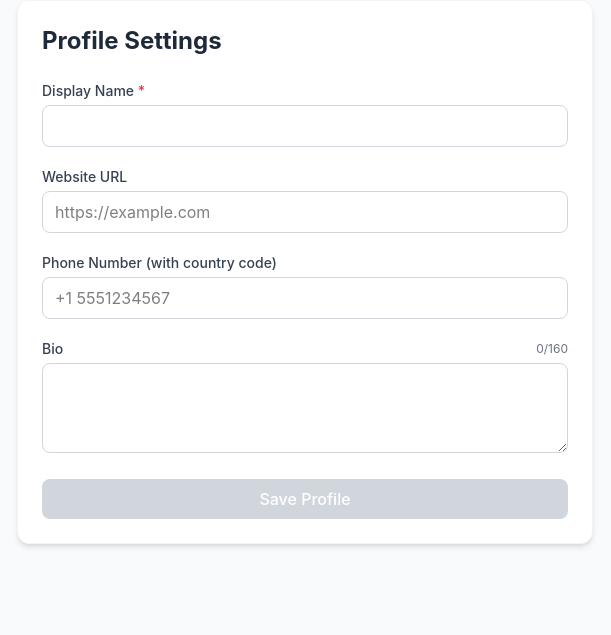
Scenario: Task 1: Profile Settings Form › enables submit button and shows toast on valid form submission
The image size is (611, 635).
Type "Helena" into the field labelled "Display Name *".
click(305, 126); type("Helena")  # box [42,105,568,147]
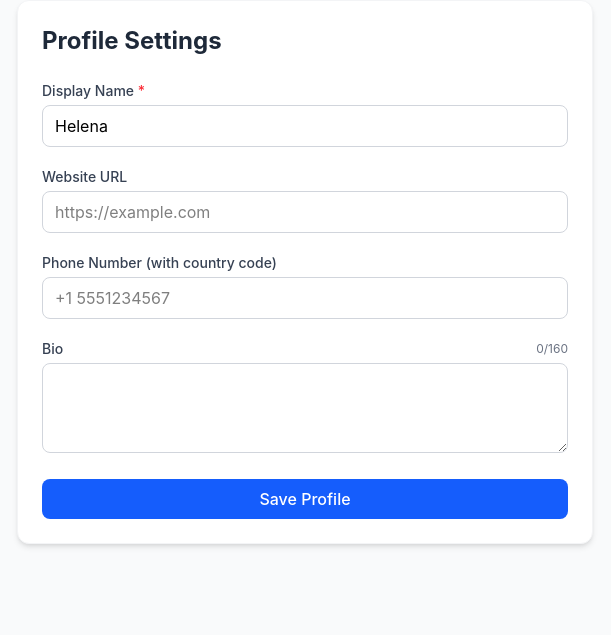
Expected: the button "Save Profile" is enabled
Click the button "Save Profile".
click(305, 499)  # box [42,479,568,519]
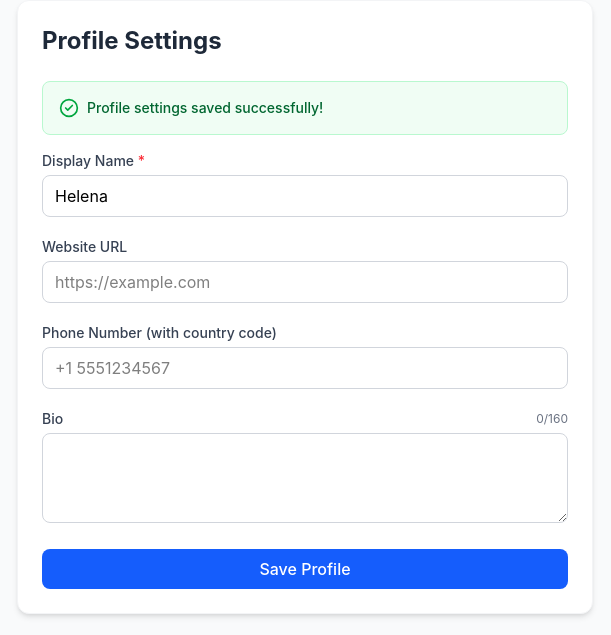
Expected: the message shows "Profile settings saved successfully", [87,99,323,116]
